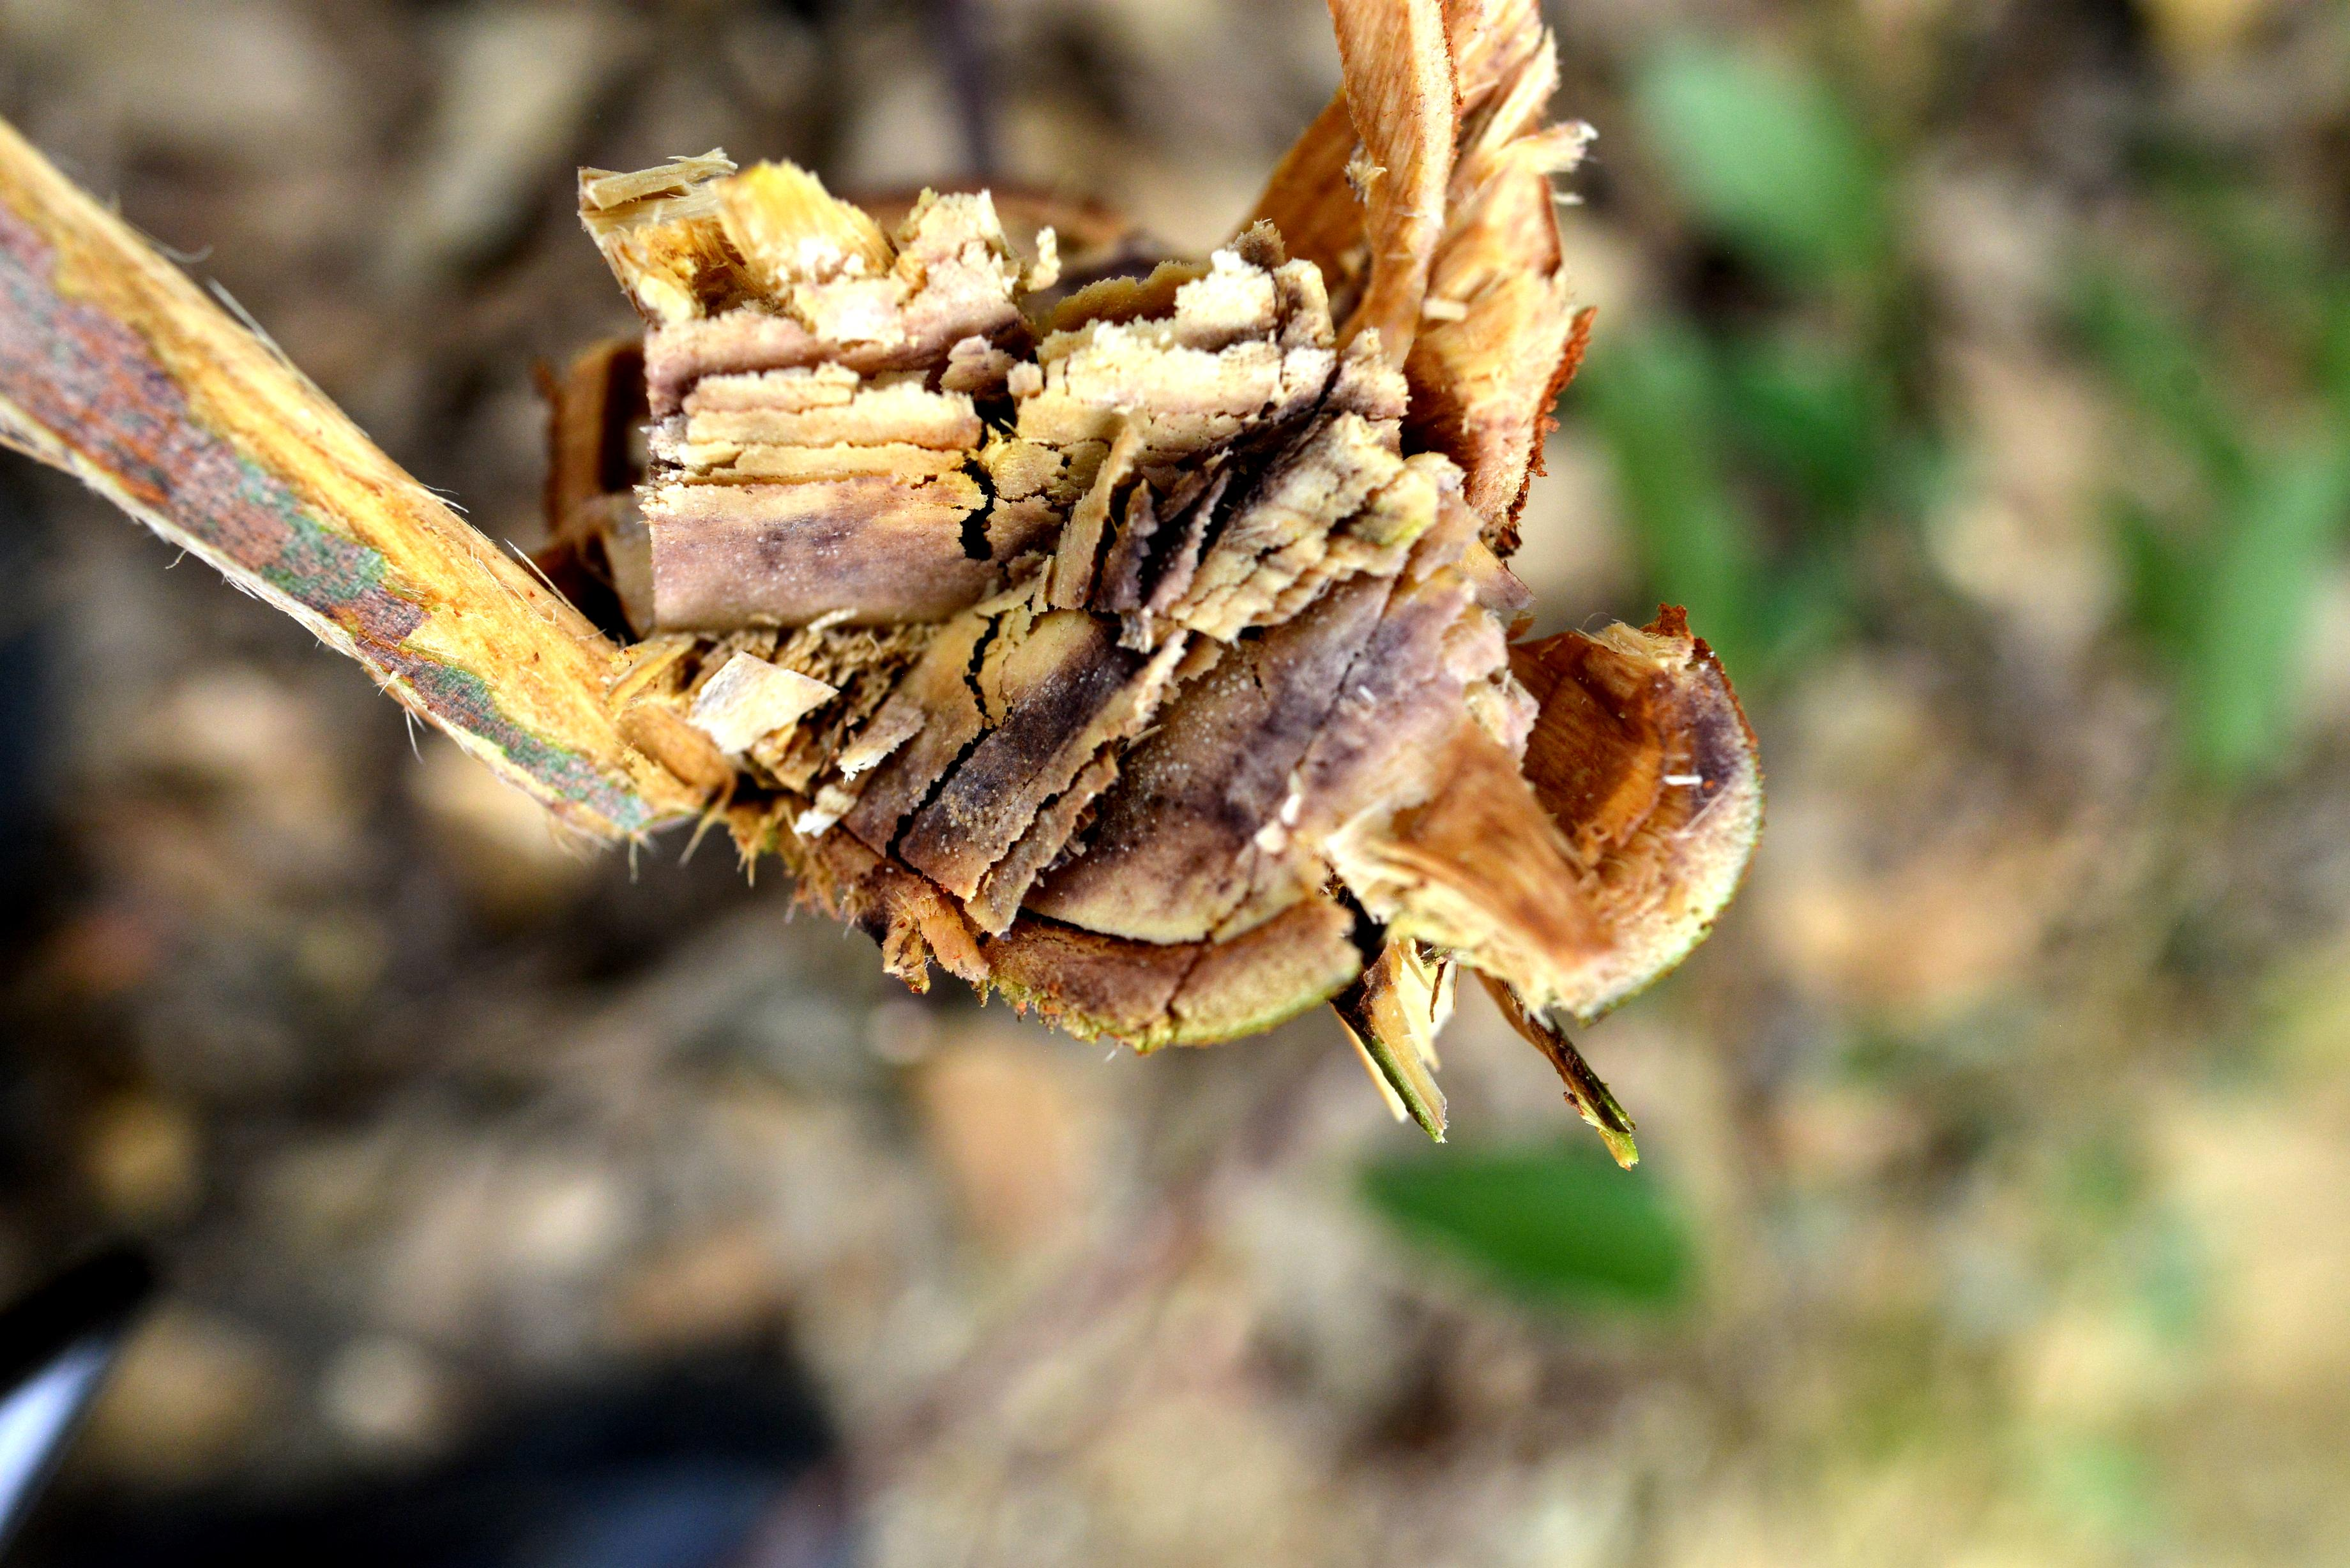Ralstonia: (931, 399, 1358, 880), (654, 485, 899, 621), (1626, 651, 1762, 817), (747, 227, 891, 297)
